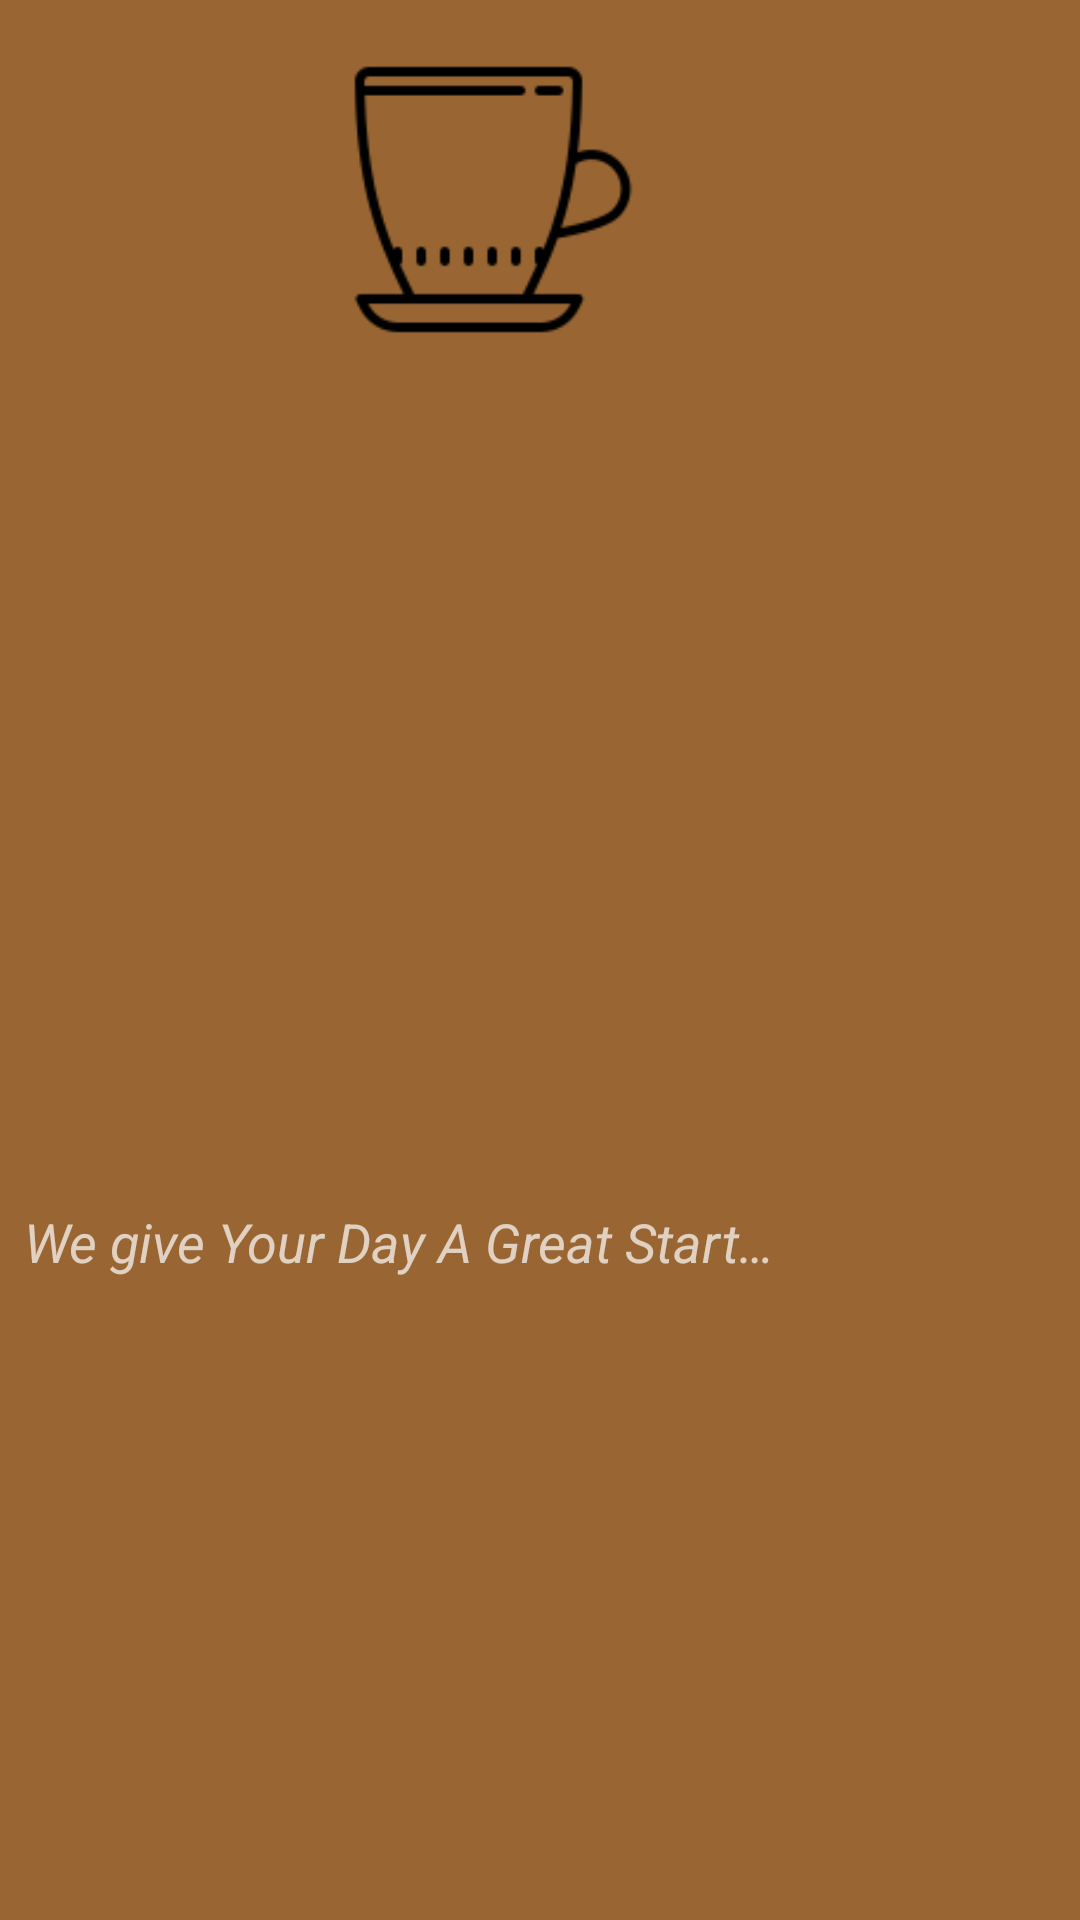

Screen size 1080 × 1920. Icon name, then its box in pixels as bbox=(x1, y1, x2, y2):
espresso-cup: bbox=(354, 66, 632, 333)
